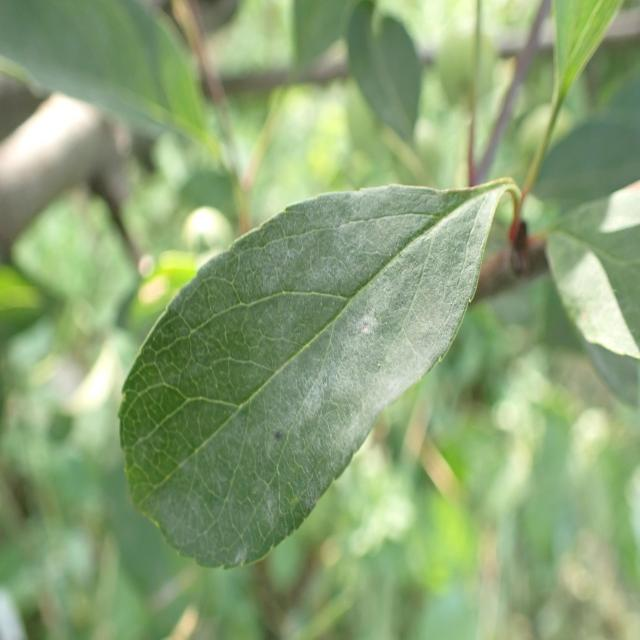Powdery_mildew: (120, 170, 504, 568)
